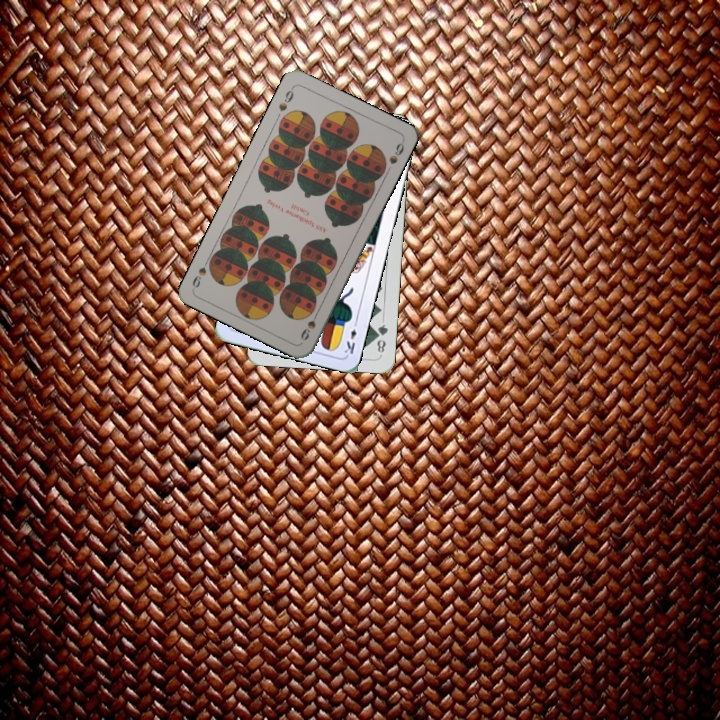EK: (340, 316, 360, 357)
G8: (372, 320, 391, 355)
S9: (297, 305, 322, 343), (274, 83, 296, 114)
